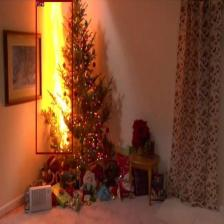fire: (36, 0, 72, 154)
